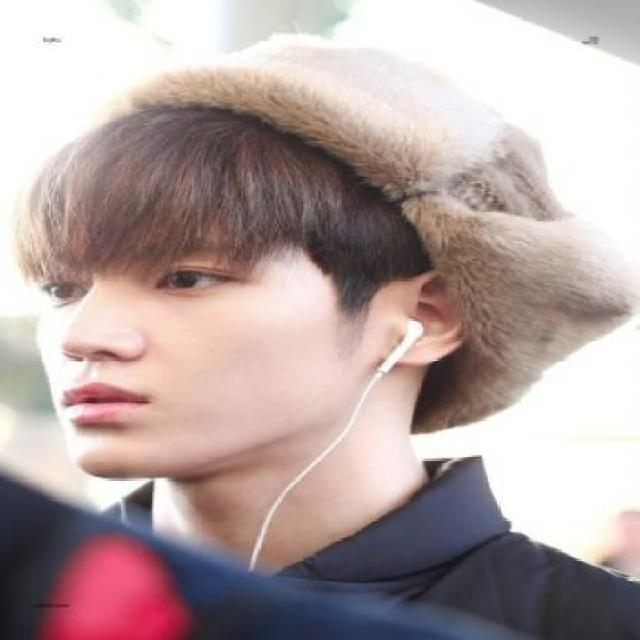hat: (95, 43, 638, 438)
